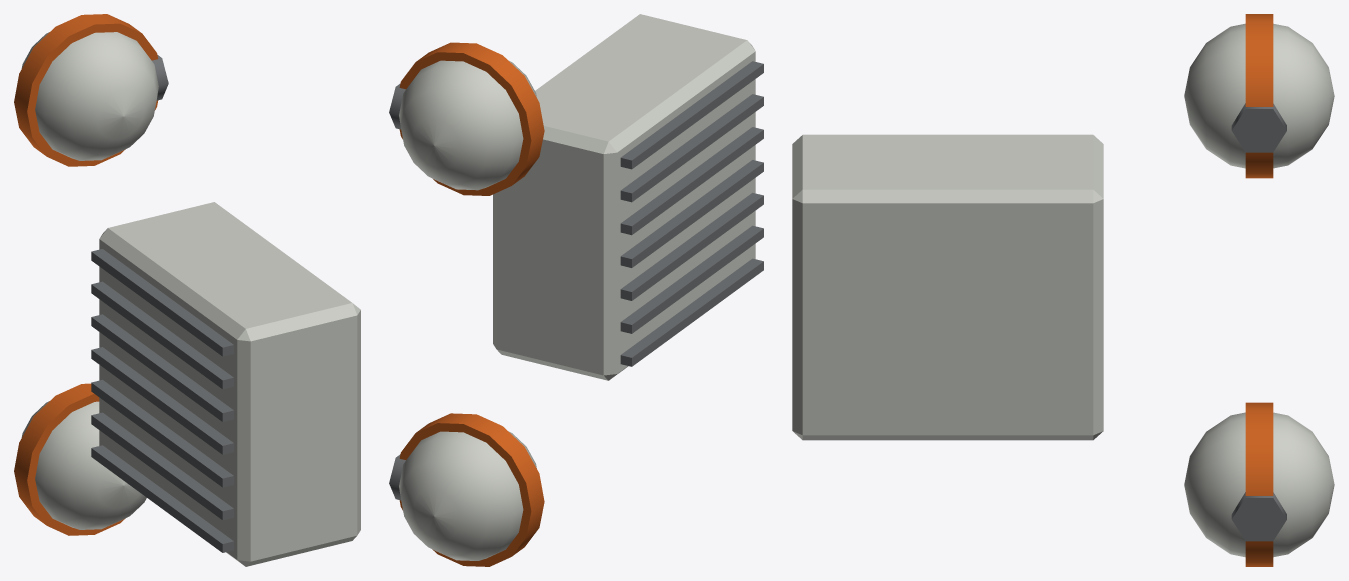
The picture shows the model from 3 angles, left to right: view 1: azimuth 30°, elevation 25°; view 2: azimuth 150°, elevation 25°; view 3: azimuth 270°, elevation 25°; orthographic projection. The views are drawn at different scales.
Parts seen in each view (by area): view 1: u33_hx; view 2: u33_hx; view 3: u33_hx.
Part boxes in pixels (x1,y1,x2,y2): u33_hx: [14, 14, 360, 566]; u33_hx: [389, 14, 763, 566]; u33_hx: [792, 14, 1334, 566].
Size of the model in its own units: 0.515 by 1.72 by 1.57.
